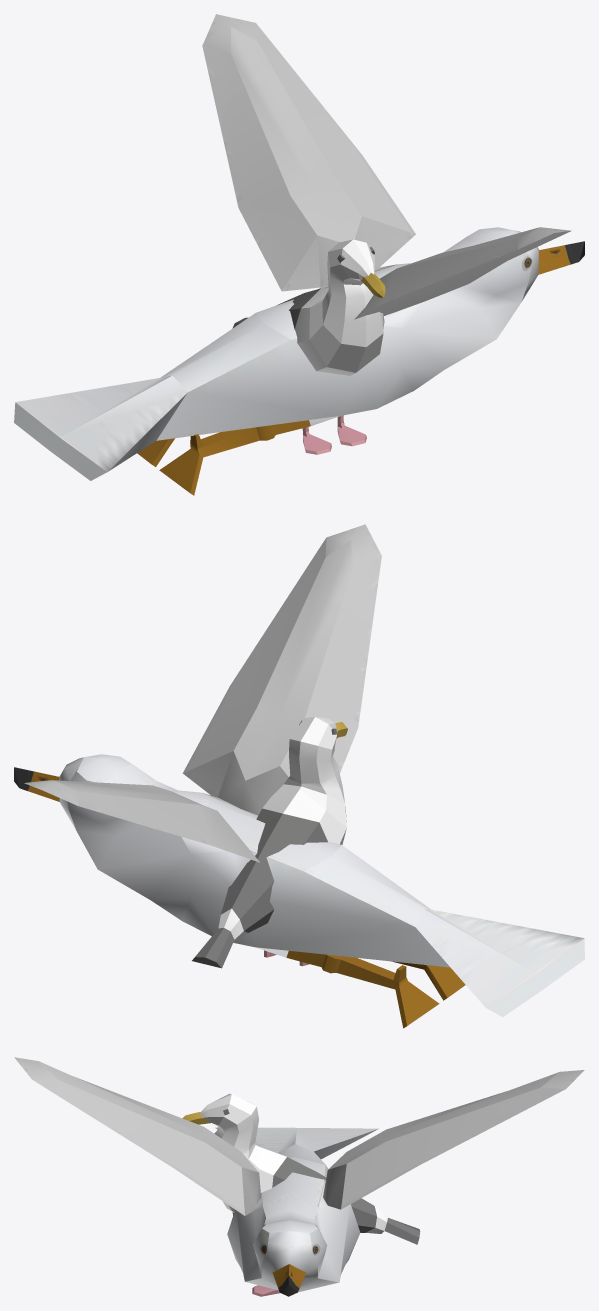
Rendered from gulls.glb.
The picture shows the model from 3 angles, top to bottom: view 1: azimuth 30°, elevation 25°; view 2: azimuth 150°, elevation 25°; view 3: azimuth 270°, elevation 25°; orthographic projection. The views are drawn at different scales.
Visible parts, largest first — view 1: gull-fly, gull; view 2: gull-fly, gull; view 3: gull-fly, gull.
Part boxes in pixels (left/top/right/bottom): gull-fly: left=14, top=14, right=584, bottom=495; gull: left=232, top=239, right=385, bottom=454; gull-fly: left=14, top=524, right=584, bottom=1028; gull: left=192, top=717, right=347, bottom=968; gull-fly: left=14, top=1057, right=584, bottom=1296; gull: left=182, top=1093, right=420, bottom=1296.
Bounding box in the file's own units: 1.21 × 0.6501 × 1.3.
2 materials, 2 textured.
